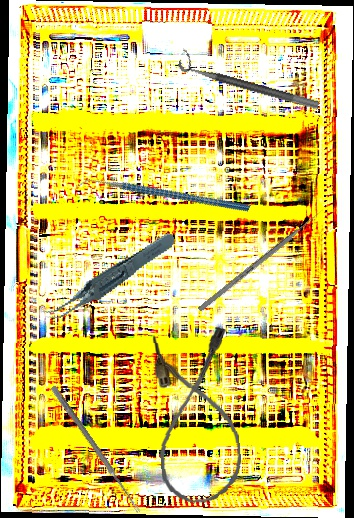Cannula: (149, 325, 245, 507)
Chopper: (75, 127, 251, 267)
Fixation Ring: (176, 48, 324, 111)
Pusher: (197, 207, 326, 313)
Surgical Spoon: (49, 385, 143, 514)
Tissue Forceps: (29, 230, 187, 324)
